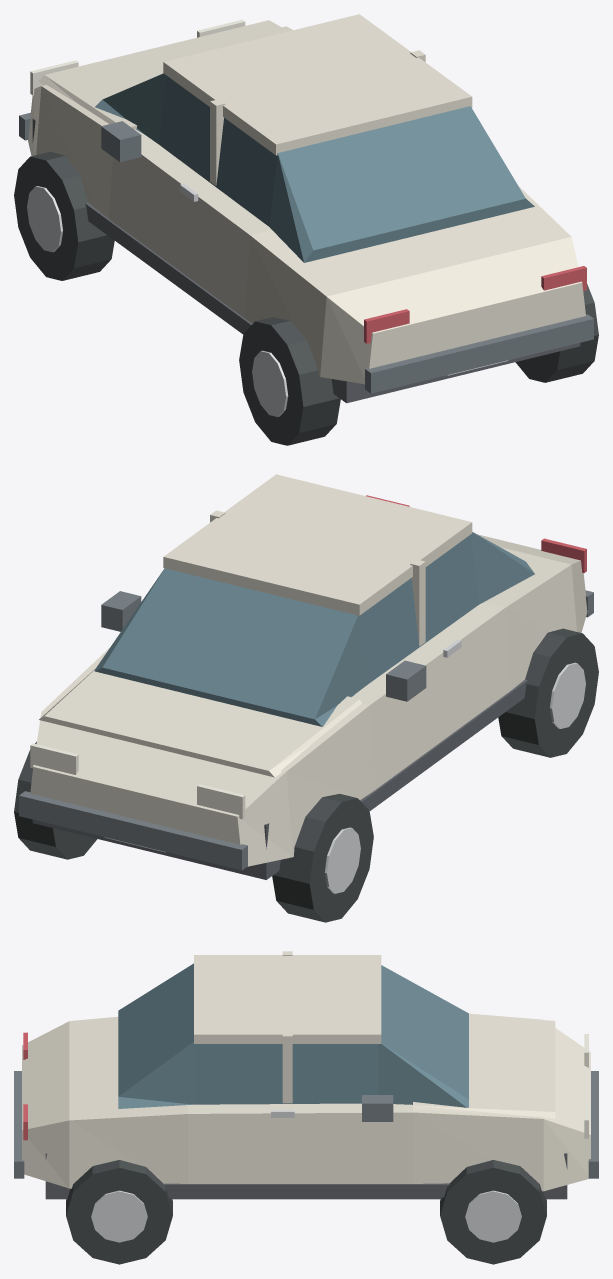
The model's file is uno.glb.
3 renders of one model, top to bottom at view 1: azimuth 30°, elevation 25°; view 2: azimuth 150°, elevation 25°; view 3: azimuth 270°, elevation 25°, orthographic. The views are drawn at different scales.
Parts seen in each view (by area): view 1: body_0001, cab_glass_0022, roof_0023, wheel_tire_0006, wheel_tire_0004, hood_0002, bumper_0027, lower_sill_0012, wheel_tire_0015, wheel_rim_0007, wheel_rim_0005, chassis_0000 (+4 smaller); view 2: body_0001, cab_glass_0022, roof_0023, hood_0002, wheel_tire_0004, wheel_tire_0006, bumper_0026, lower_sill_0012, wheel_tire_0013, wheel_rim_0005, wheel_rim_0007, chassis_0000 (+6 smaller); view 3: body_0001, cab_glass_0022, roof_0023, hood_0002, wheel_tire_0013, wheel_tire_0015, lower_sill_0021, wheel_rim_0014, wheel_rim_0016, chassis_0000, bumper_0026, bumper_0027 (+2 smaller).
Part boxes in pixels (x1=…): body_0001: x1=28, y1=26, x2=585, y2=384; cab_glass_0022: x1=95, y1=73, x2=534, y2=262; roof_0023: x1=163, y1=14, x2=472, y2=155; wheel_tire_0006: x1=239, y1=317, x2=340, y2=445; wheel_tire_0004: x1=14, y1=151, x2=114, y2=280; hood_0002: x1=39, y1=20, x2=288, y2=129; bumper_0027: x1=365, y1=314, x2=593, y2=393; lower_sill_0012: x1=85, y1=202, x2=252, y2=334; wheel_tire_0015: x1=515, y1=284, x2=598, y2=382; wheel_rim_0007: x1=252, y1=350, x2=288, y2=416; wheel_rim_0005: x1=27, y1=186, x2=62, y2=252; chassis_0000: x1=32, y1=118, x2=580, y2=403; body_0001: x1=30, y1=534, x2=587, y2=866; cab_glass_0022: x1=94, y1=532, x2=534, y2=726; roof_0023: x1=163, y1=474, x2=472, y2=615; hood_0002: x1=39, y1=669, x2=361, y2=777; wheel_tire_0004: x1=272, y1=793, x2=373, y2=922; wheel_tire_0006: x1=498, y1=628, x2=598, y2=757; bumper_0026: x1=19, y1=791, x2=247, y2=870; lower_sill_0012: x1=360, y1=679, x2=527, y2=810; wheel_tire_0013: x1=14, y1=741, x2=97, y2=859; wheel_rim_0005: x1=324, y1=827, x2=360, y2=893; wheel_rim_0007: x1=550, y1=662, x2=585, y2=728; chassis_0000: x1=32, y1=768, x2=280, y2=879; body_0001: x1=22, y1=1013, x2=590, y2=1191; cab_glass_0022: x1=118, y1=963, x2=468, y2=1108; roof_0023: x1=194, y1=955, x2=381, y2=1043; hood_0002: x1=413, y1=1014, x2=555, y2=1118; wheel_tire_0013: x1=440, y1=1160, x2=546, y2=1264; wheel_tire_0015: x1=66, y1=1160, x2=172, y2=1264; lower_sill_0021: x1=163, y1=1183, x2=449, y2=1197; wheel_rim_0014: x1=465, y1=1190, x2=521, y2=1242; wheel_rim_0016: x1=91, y1=1190, x2=147, y2=1242; chassis_0000: x1=45, y1=1153, x2=567, y2=1199; bumper_0026: x1=588, y1=1071, x2=598, y2=1178; bumper_0027: x1=14, y1=1071, x2=24, y2=1178.
Bounding box in the file's own units: 1.87 × 1.48 × 3.72.
